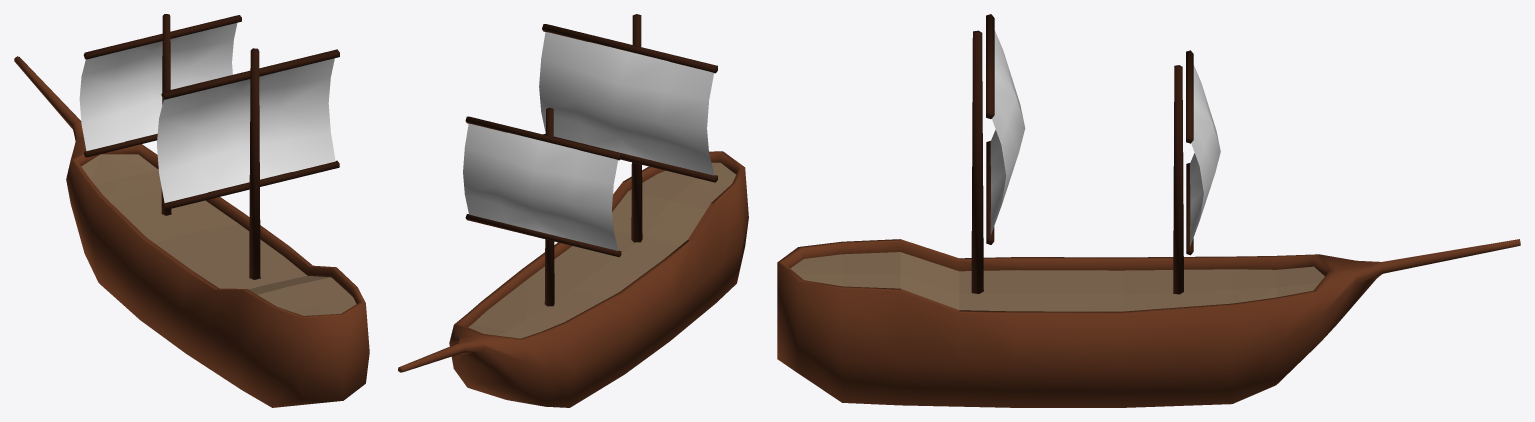
The model's file is ship.obj.
3 renders of one model, left to right at view 1: azimuth 30°, elevation 25°; view 2: azimuth 150°, elevation 25°; view 3: azimuth 270°, elevation 25°, orthographic. The views are drawn at different scales.
Parts seen in each view (by area): view 1: Cube, Plane.001_Plane, Plane, Cylinder.003_Cylinder, Cylinder.005_Cylinder.001, Cylinder.004_Cylinder.001, Cylinder.001, Cylinder, Cylinder.002_Cylinder.001; view 2: Cube, Plane.001_Plane, Plane, Cylinder.005_Cylinder.001, Cylinder.003_Cylinder, Cylinder.001, Cylinder.002_Cylinder.001, Cylinder, Cylinder.004_Cylinder.001; view 3: Cube, Plane.001_Plane, Cylinder.003_Cylinder, Plane, Cylinder, Cylinder.005_Cylinder.001, Cylinder.001.
Part boxes in pixels (left/top/right/bottom): Cube: left=14, top=56, right=369, bottom=407; Plane.001_Plane: left=157, top=58, right=335, bottom=202; Plane: left=79, top=23, right=237, bottom=151; Cylinder.003_Cylinder: left=249, top=48, right=260, bottom=279; Cylinder.005_Cylinder.001: left=161, top=49, right=339, bottom=99; Cylinder.004_Cylinder.001: left=161, top=160, right=339, bottom=210; Cylinder.001: left=83, top=15, right=241, bottom=59; Cylinder: left=161, top=14, right=171, bottom=215; Cylinder.002_Cylinder.001: left=83, top=133, right=157, bottom=157; Cube: left=398, top=151, right=748, bottom=407; Plane.001_Plane: left=539, top=32, right=714, bottom=175; Plane: left=463, top=123, right=618, bottom=250; Cylinder.005_Cylinder.001: left=542, top=24, right=717, bottom=73; Cylinder.003_Cylinder: left=631, top=14, right=642, bottom=242; Cylinder.001: left=465, top=116, right=621, bottom=160; Cylinder.002_Cylinder.001: left=465, top=214, right=621, bottom=257; Cylinder: left=544, top=107, right=554, bottom=306; Cylinder.004_Cylinder.001: left=543, top=133, right=717, bottom=182; Cube: left=777, top=239, right=1520, bottom=407; Plane.001_Plane: left=990, top=30, right=1025, bottom=235; Cylinder.003_Cylinder: left=971, top=30, right=983, bottom=293; Plane: left=1190, top=65, right=1220, bottom=246; Cylinder: left=1173, top=65, right=1183, bottom=294; Cylinder.005_Cylinder.001: left=986, top=14, right=994, bottom=118; Cylinder.001: left=1186, top=50, right=1193, bottom=143.
Size of the model in its own units: 3.37 by 5.69 by 10.92.
